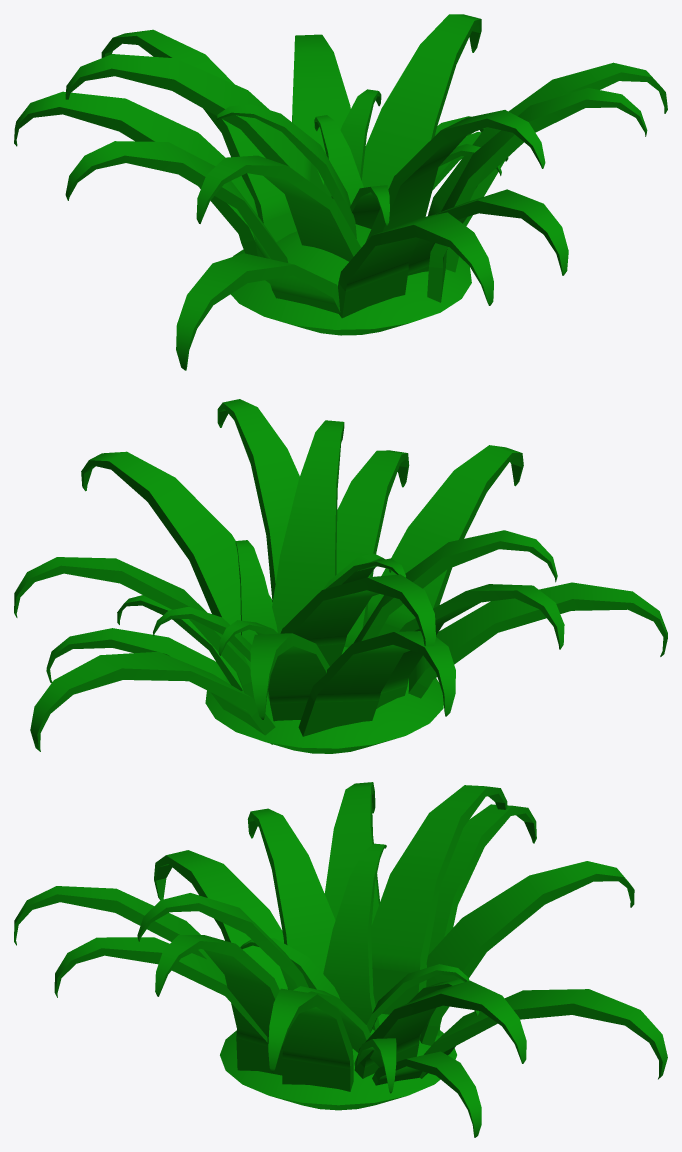
File: grass2.fbx
3 views of the same model, one above another, from view 1: azimuth 30°, elevation 25°; view 2: azimuth 150°, elevation 25°; view 3: azimuth 270°, elevation 25° (orthographic). The views are drawn at different scales.
Parts seen in each view (by area): view 1: grass2; view 2: grass2; view 3: grass2.
Part boxes in pixels (bbox=[...]): grass2: bbox=[14, 14, 667, 370]; grass2: bbox=[14, 399, 667, 753]; grass2: bbox=[14, 782, 667, 1137].
Bounding box in the file's own units: 5.2 × 2.13 × 5.65.
